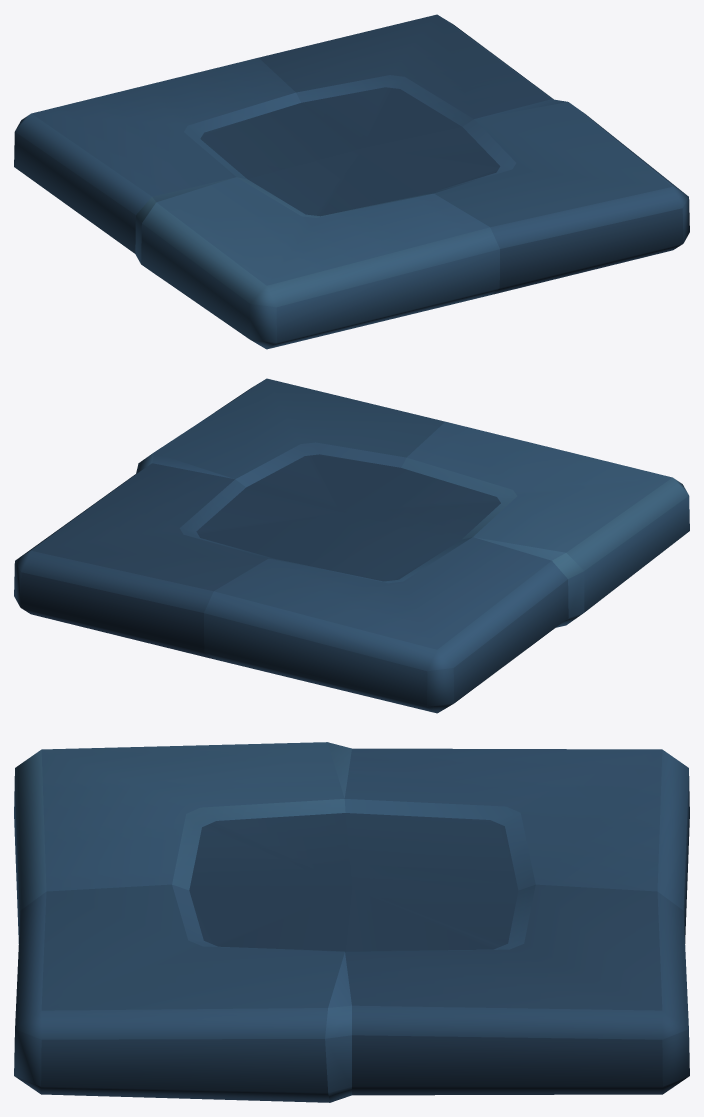
File: floor_deco_element_2.fbx
The picture shows the model from 3 angles, top to bottom: view 1: azimuth 30°, elevation 25°; view 2: azimuth 150°, elevation 25°; view 3: azimuth 270°, elevation 25°; orthographic projection. The views are drawn at different scales.
Parts seen in each view (by area): view 1: floor_deco_element_2; view 2: floor_deco_element_2; view 3: floor_deco_element_2.
Part boxes in pixels (x1,y1,x2,y2): floor_deco_element_2: (14, 14, 689, 349); floor_deco_element_2: (14, 378, 689, 713); floor_deco_element_2: (14, 742, 689, 1102).
Size of the model in its own units: 218 by 33.88 by 217.
